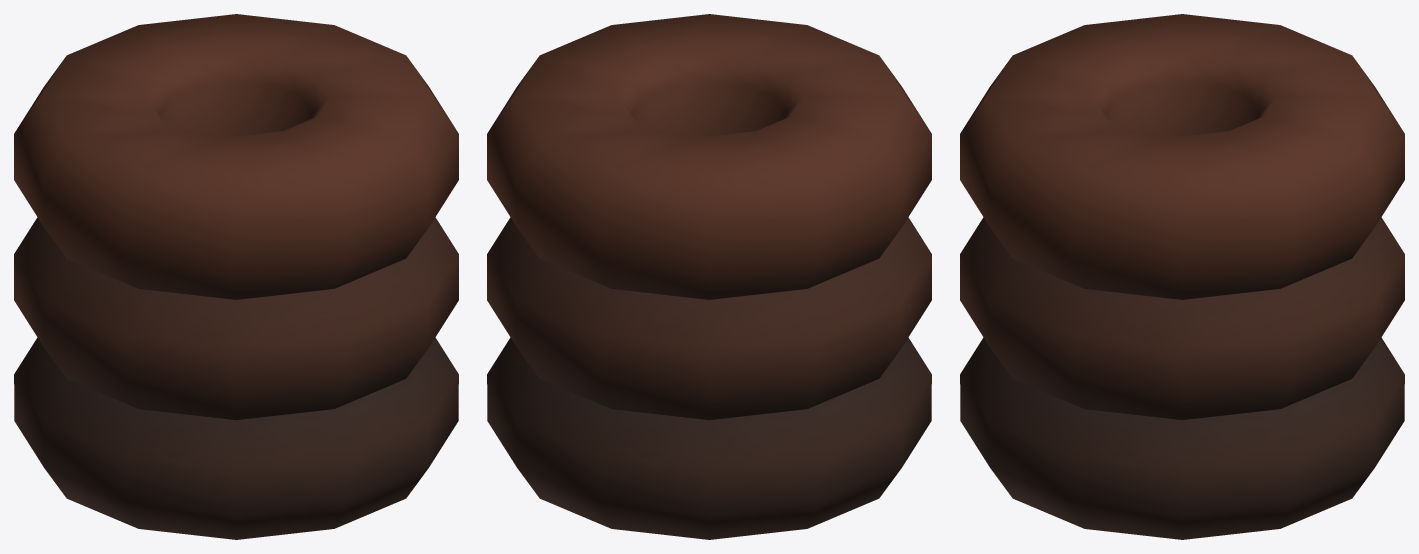
File: m_Baumkuchen01.fbx
The picture shows the model from 3 angles, left to right: view 1: azimuth 30°, elevation 25°; view 2: azimuth 150°, elevation 25°; view 3: azimuth 270°, elevation 25°; orthographic projection.
Visible parts, largest first — view 1: m_Baumkuchen01; view 2: m_Baumkuchen01; view 3: m_Baumkuchen01.
Boxes of the visible parts, x1,y1,x2,y2 form: m_Baumkuchen01: (14,14,458,539); m_Baumkuchen01: (487,14,931,539); m_Baumkuchen01: (960,14,1404,539).
Size of the model in its own units: 17.12 by 15.31 by 17.12.
